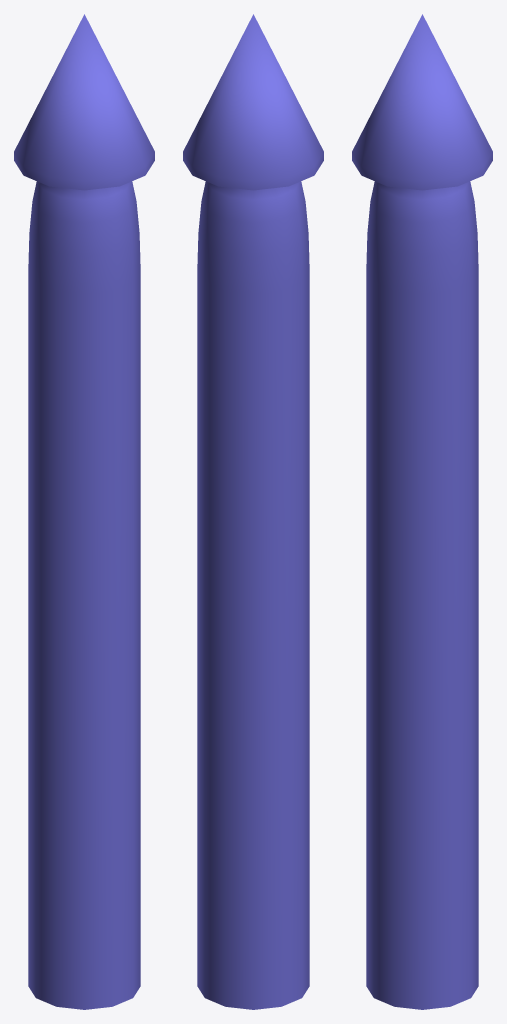
File: Portal_1.fbx
3 views of the same model, side by side, from view 1: azimuth 30°, elevation 25°; view 2: azimuth 150°, elevation 25°; view 3: azimuth 270°, elevation 25° (orthographic).
Visible parts, largest first — view 1: Portal_1; view 2: Portal_1; view 3: Portal_1.
Boxes of the visible parts, x1=… form: Portal_1: x1=14, y1=14, x2=154, y2=1009; Portal_1: x1=183, y1=14, x2=323, y2=1009; Portal_1: x1=352, y1=14, x2=492, y2=1009.
Size of the model in its own units: 122 by 929 by 122.
